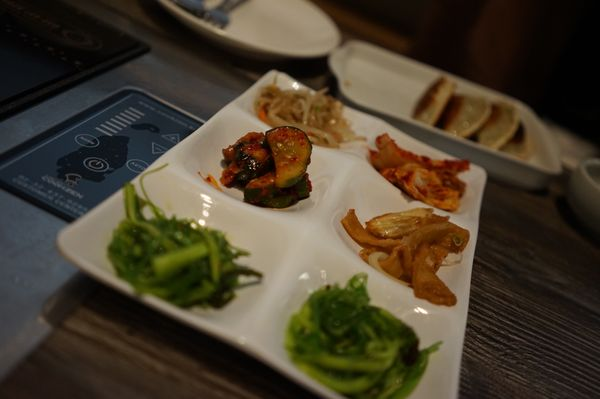curry: (284, 274, 442, 398), (108, 197, 264, 310)
